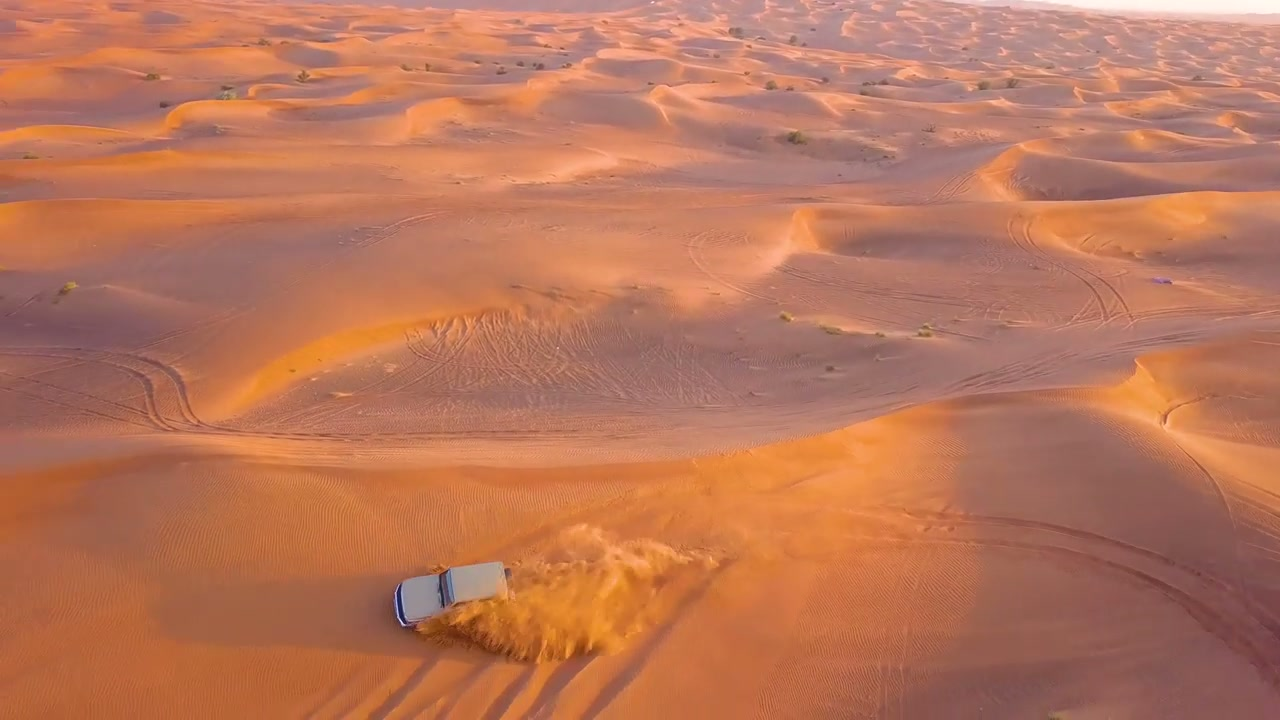vehicle_track: (870, 508, 1279, 689), (118, 210, 444, 357), (134, 210, 443, 350), (0, 346, 204, 430), (1006, 213, 1132, 324), (777, 263, 971, 308), (686, 233, 779, 303), (918, 171, 975, 205)
